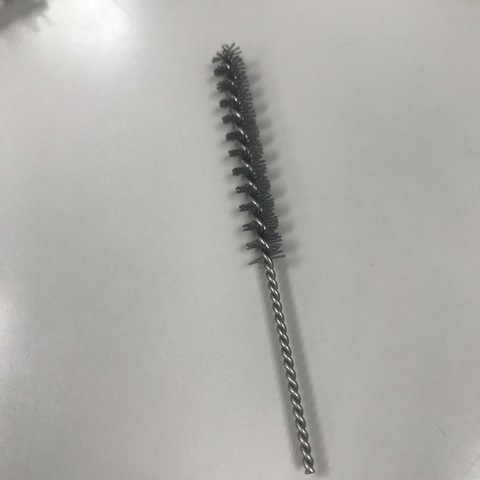Twist Brush-A: (208, 35, 324, 475)
